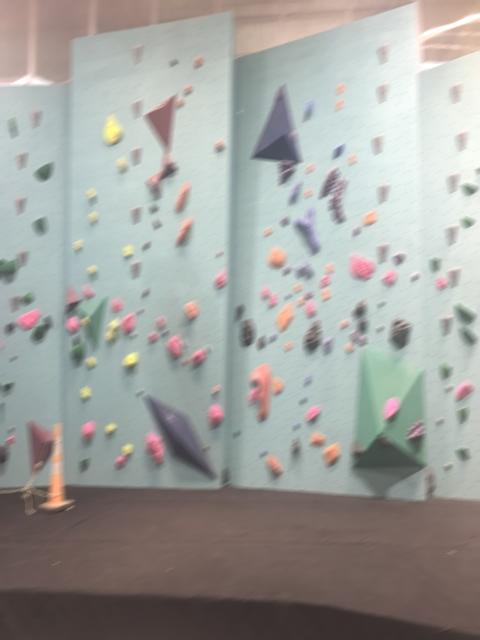crimp: (268, 332, 276, 342), (179, 338, 186, 349), (289, 130, 296, 141), (153, 218, 160, 228), (150, 204, 158, 212), (203, 344, 209, 354), (142, 241, 149, 249), (162, 329, 168, 335), (285, 294, 291, 299)
downhold: (377, 42, 389, 63), (447, 267, 459, 286), (447, 172, 459, 191), (377, 82, 388, 102), (377, 242, 388, 262), (446, 224, 457, 244), (456, 130, 467, 150), (372, 134, 383, 153), (377, 183, 388, 202), (450, 83, 461, 102), (14, 196, 25, 214), (30, 109, 41, 127), (131, 146, 141, 165), (131, 205, 141, 223), (131, 260, 141, 278), (132, 99, 142, 117), (132, 45, 142, 63), (16, 152, 26, 169), (10, 295, 20, 311), (17, 250, 27, 266)
jib: (376, 324, 383, 332), (436, 416, 442, 425), (377, 300, 384, 307), (445, 384, 452, 391), (444, 462, 451, 469), (8, 425, 14, 432), (300, 396, 306, 403), (293, 423, 299, 430), (137, 307, 143, 313), (10, 354, 16, 360), (260, 451, 266, 457), (234, 429, 239, 436), (131, 332, 135, 338)
jug: (184, 301, 198, 319), (123, 352, 137, 368), (191, 349, 205, 365), (108, 318, 119, 333), (148, 331, 158, 343), (8, 117, 16, 131), (86, 357, 95, 369), (105, 329, 114, 341), (156, 316, 164, 329), (74, 239, 82, 252), (215, 139, 224, 150), (194, 55, 202, 67), (275, 87, 283, 99), (88, 265, 96, 275), (184, 85, 191, 94), (176, 98, 183, 107)
ledge: (388, 317, 411, 347), (349, 253, 375, 279), (303, 320, 321, 352), (17, 309, 40, 329), (277, 160, 295, 184), (240, 318, 255, 346), (454, 303, 475, 323), (267, 246, 286, 268), (166, 335, 182, 357), (458, 326, 476, 345), (34, 162, 52, 180), (381, 269, 396, 286), (71, 341, 85, 359), (32, 216, 45, 233), (321, 336, 333, 354), (439, 362, 451, 378), (455, 447, 469, 460), (461, 183, 477, 194), (435, 275, 447, 289), (457, 407, 468, 422), (333, 143, 344, 157), (429, 257, 440, 271), (393, 252, 404, 265), (1, 382, 13, 393), (461, 217, 474, 227), (123, 245, 132, 256), (304, 290, 312, 299), (283, 266, 290, 274)
pinch: (293, 206, 320, 253), (175, 217, 192, 245), (175, 182, 189, 212), (266, 455, 282, 477), (288, 179, 302, 204), (302, 259, 313, 277), (305, 101, 313, 116)
pocket: (328, 177, 347, 223), (319, 167, 339, 198), (406, 418, 424, 441), (257, 335, 265, 349)
sidepull: (275, 302, 293, 331), (271, 377, 283, 394), (268, 294, 277, 306), (261, 286, 269, 299), (304, 372, 311, 385), (142, 287, 149, 297)
sloper: (455, 381, 473, 401)
undercling: (249, 364, 271, 420)
volume: (352, 346, 426, 468), (144, 395, 216, 478), (66, 285, 81, 313)
